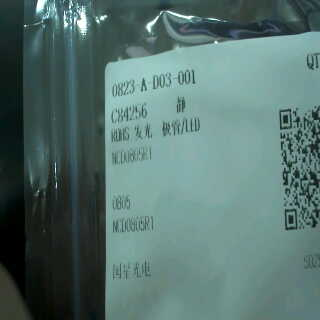LED: (129, 117, 201, 141)
